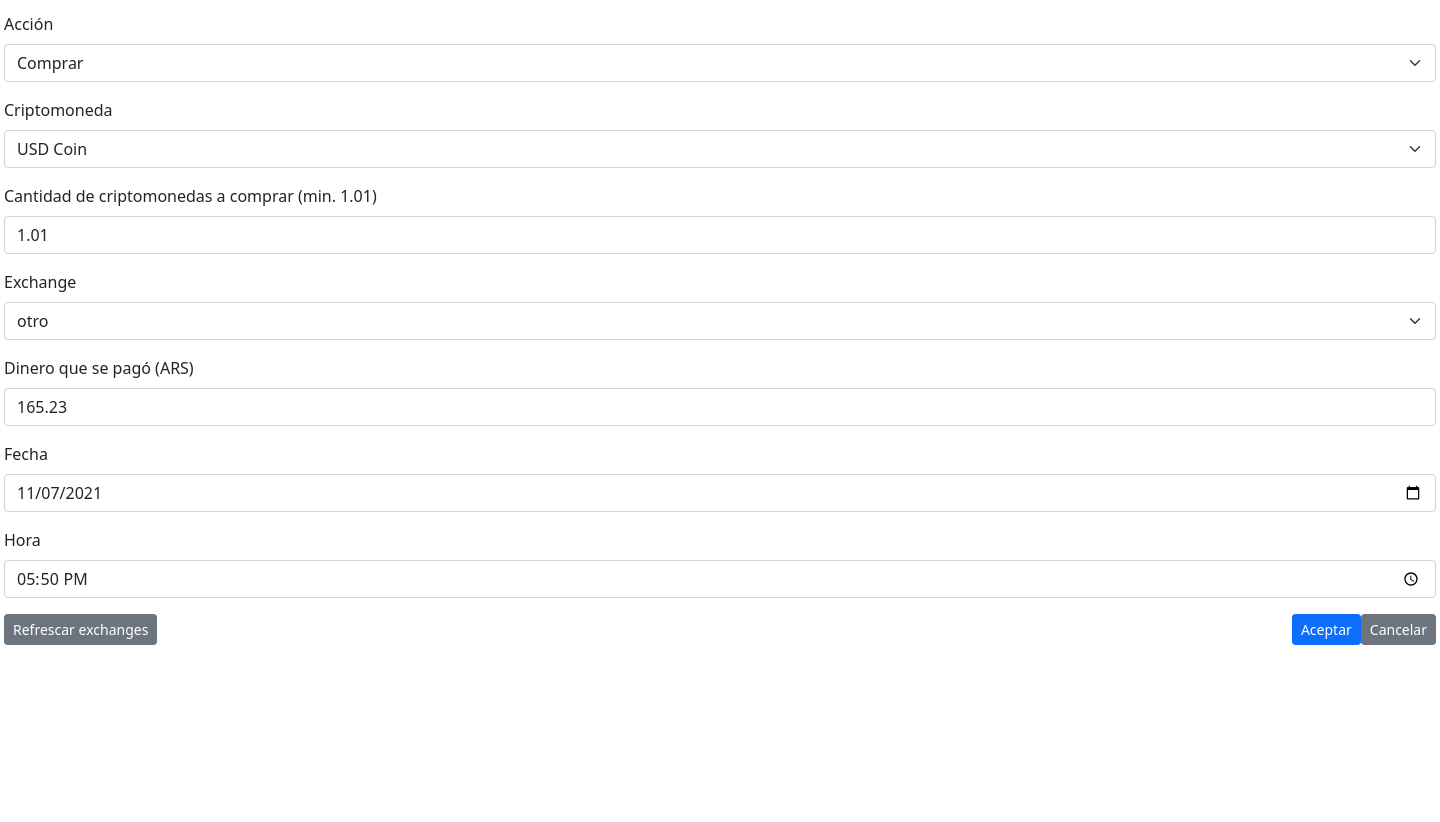
TransactionForm.vue › Editar compra: cambiar a venta - sin otras compras
Check: the dropdown with id "crypto-code" shows "USD Coin", box [4,130,1436,168]
Check: the label "Cantidad de criptomonedas a comprar (min. 1.01)" is shown, box [4,184,377,208]
Select "Vender" in the dropdown with id "action" at x=720, y=63, box [4,44,1436,82]
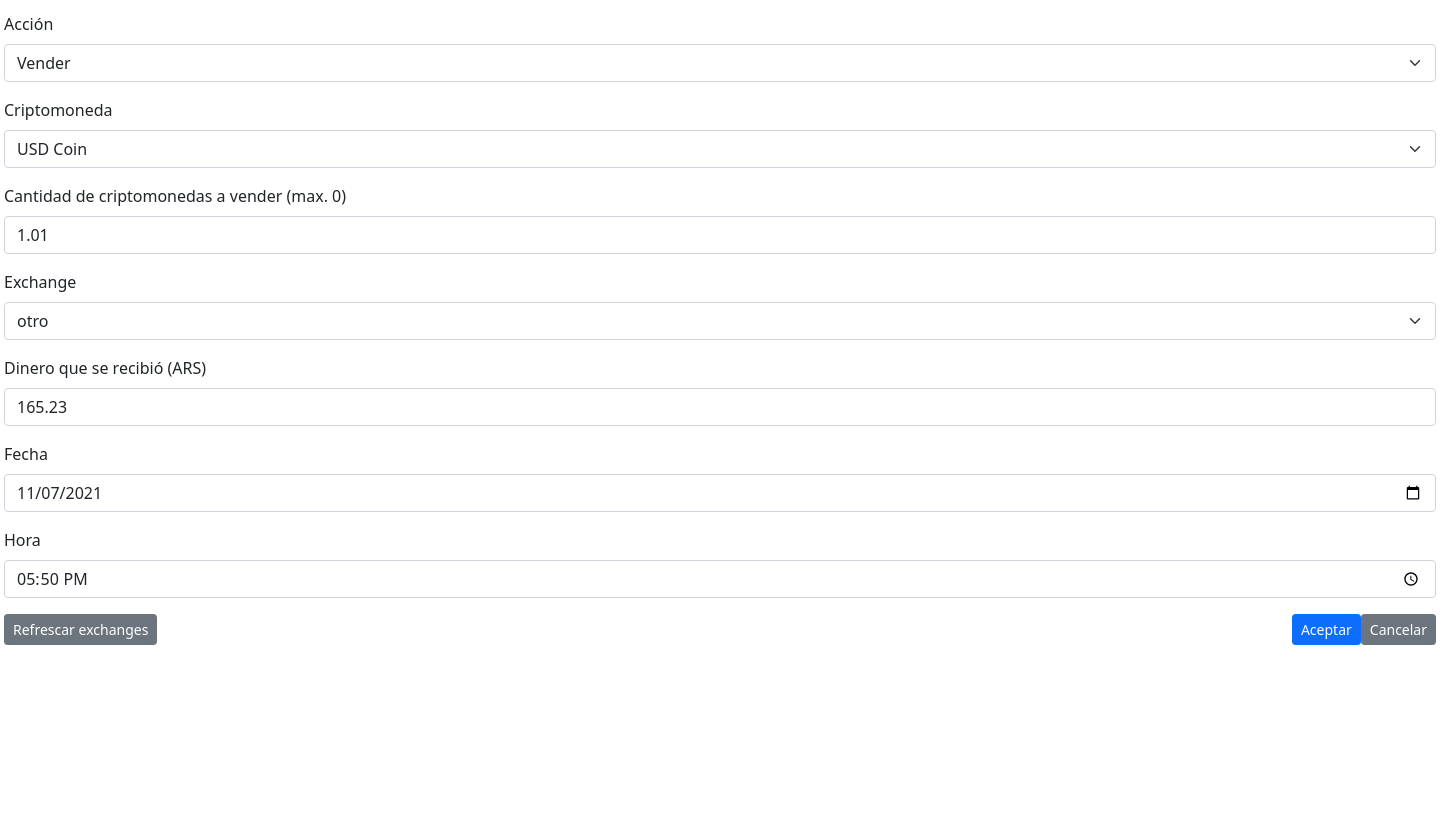
Check: the label "Cantidad de criptomonedas a vender (max. 0)" is shown, box [4,184,346,208]
